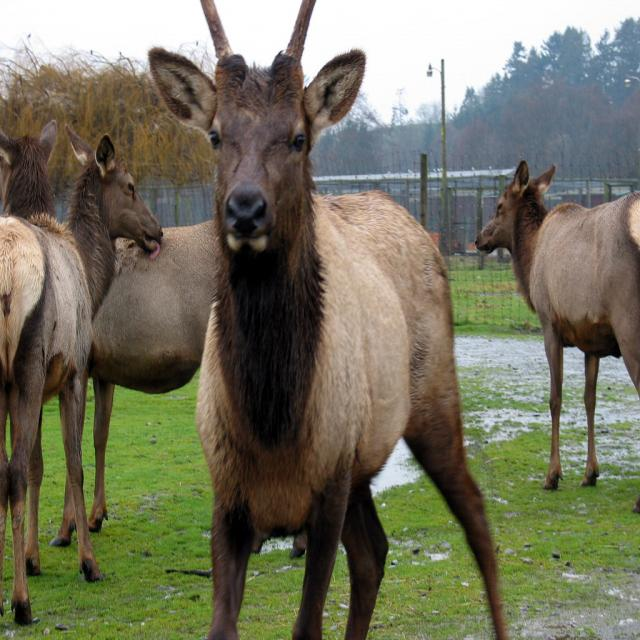Deer: (146, 0, 507, 640), (0, 128, 163, 630), (474, 159, 640, 516), (49, 220, 215, 548), (0, 118, 58, 222)
